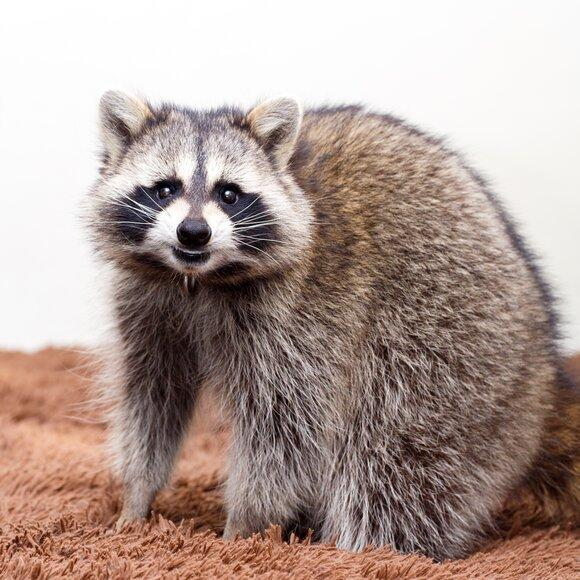raccoon: (87, 83, 580, 561)
